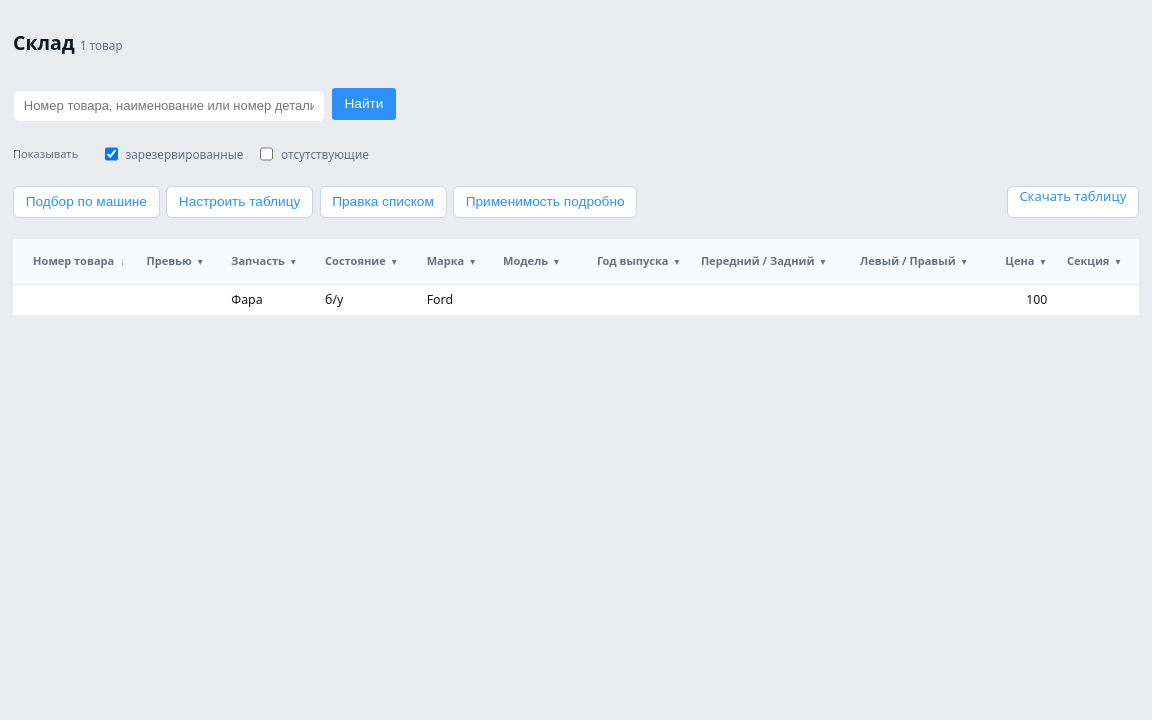
меню колонки › не открывается там, где сервер отбор не делает
Click the button with class "th__menu" next to "Марка" at (473, 261), box x1=468 y1=245 x2=477 y2=277
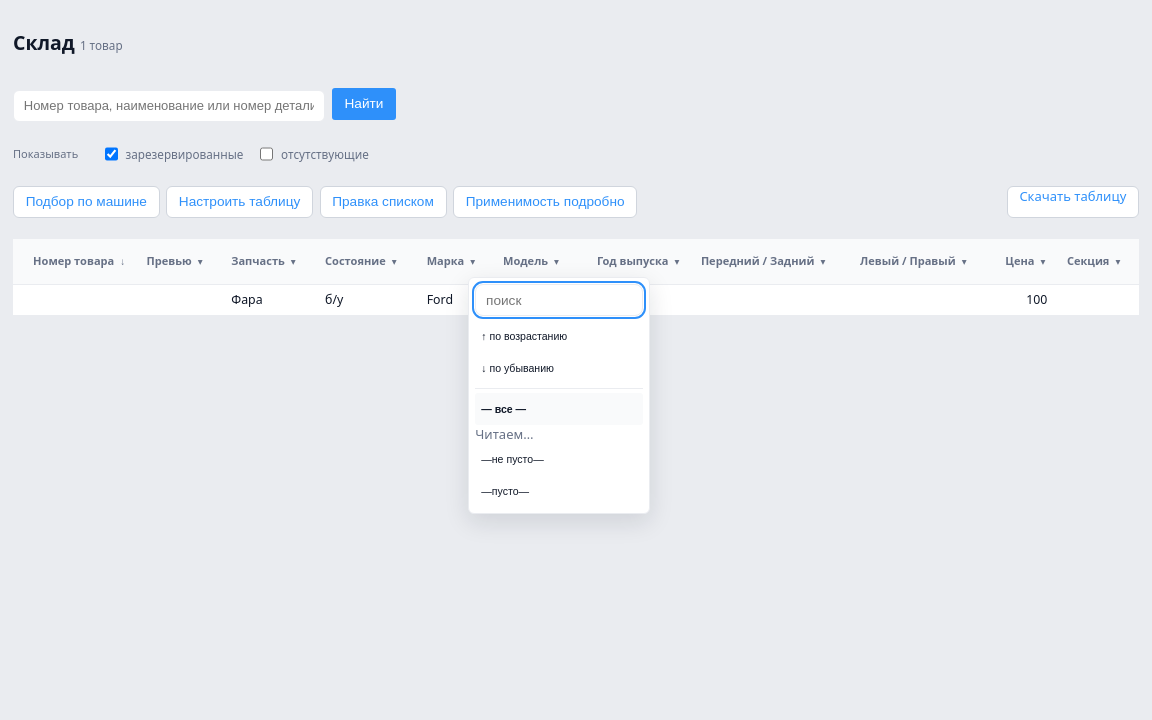
Expected: the element that starts with "↑ по возрастанию" is shown, x1=468 y1=277 x2=650 y2=514
Click the button with class "th__menu" next to "Марка" at (473, 261), box x1=468 y1=245 x2=477 y2=277
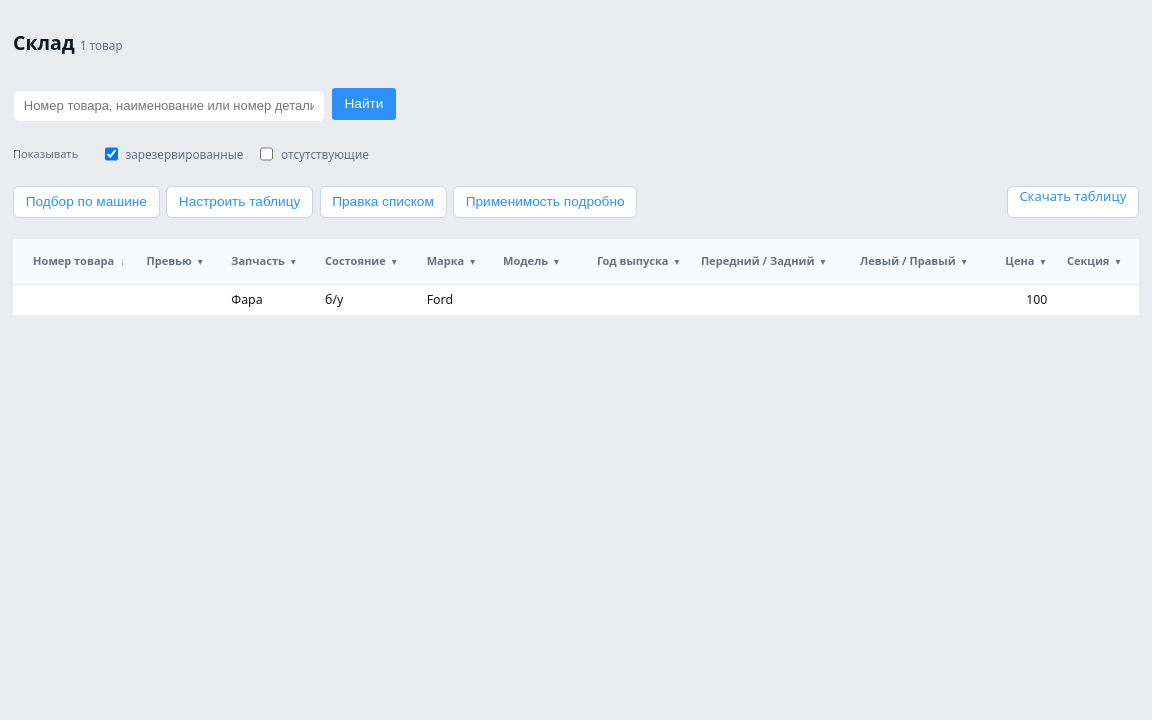
Click the button with class "th__menu" next to "Превью" at (200, 261), box x1=196 y1=245 x2=205 y2=277
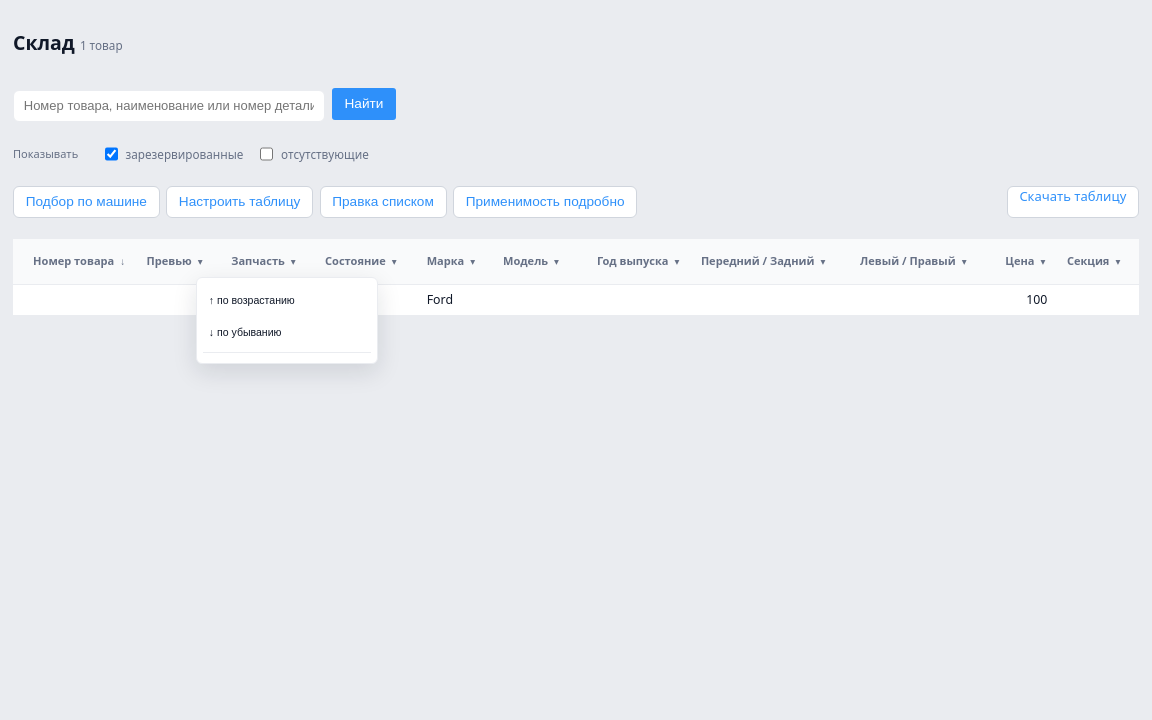
Expected: the button "— все —" does not show "— все —"
Expected: the element showing "↑ по возрастанию ↓ по убыванию" is shown, x1=196 y1=277 x2=378 y2=364
